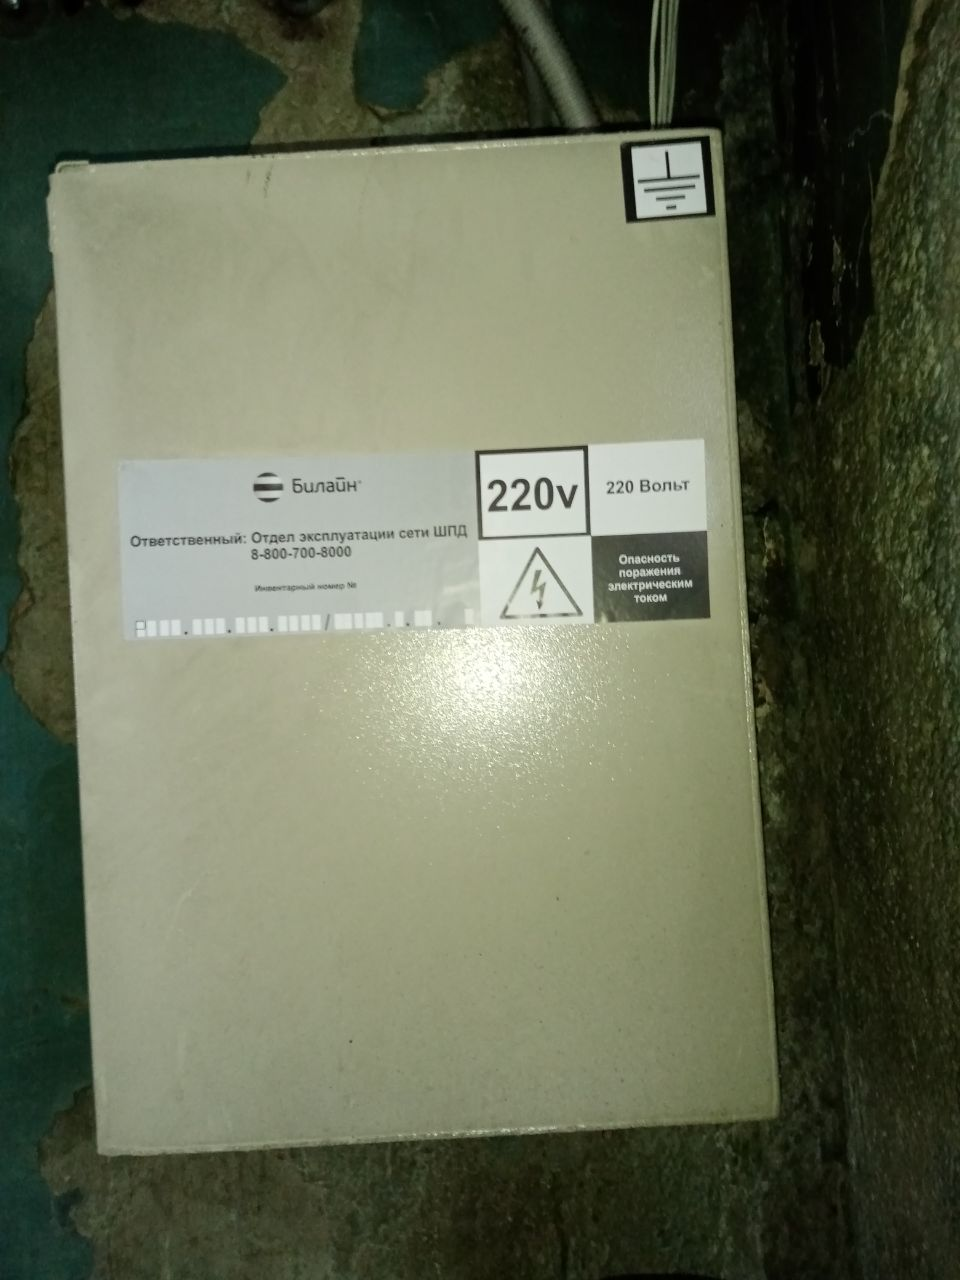sv-5: (39, 122, 791, 1159)
